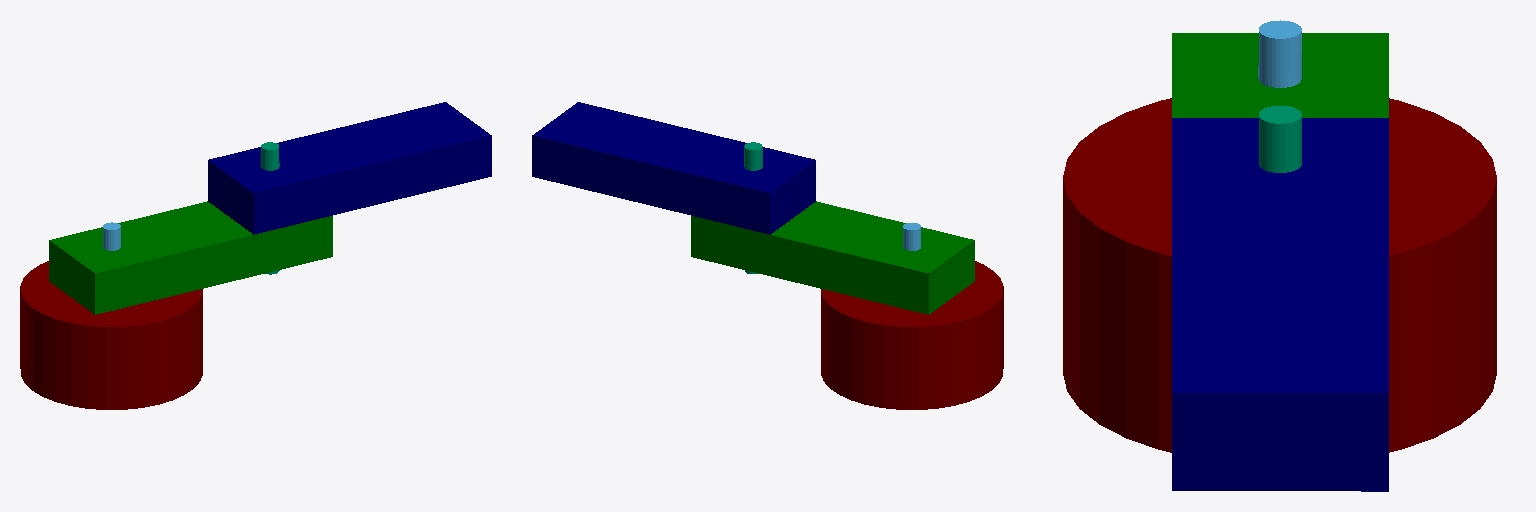
URDF robot description (Servos):
<robot name="Servos">
	<link name="base_link">
		<visual name="">
			<origin xyz="0 0 0.05" rpy="0 0 0"/>
			<geometry>
				<cylinder radius="0.1" length="0.1"/>
			</geometry>
			<material>
			<color rgba="0.5 0 0 1"/>
			</material>
		</visual>

		<collision name="">
			<origin xyz="0 0 0.05" rpy="0 0 0"/>
			<geometry>
				<cylinder radius="0.1" length="0.1"/>
			</geometry>
		</collision>

		<inertial>
			<mass value="5"/>
		</inertial>
	</link>
	
	<link name="arm_link">
	
		<visual name="arm">
			<origin xyz="0.1 0.025 0" rpy="0 0 0"/>
			<geometry>
				<box size="0.3 0.05 0.1"/>
			</geometry>
			<material>
			<color rgba="0 0.5 0 1"/>
			</material>
		</visual>
		
		<visual name="shaft">
			<origin xyz="0 0 0" rpy="1.57 0 0"/>
			<geometry>
			<cylinder radius="0.01" length="0.15"/>
			</geometry>
			<material name="">
			
			</material>
		</visual>


		<collision name="">
			<origin xyz="0.1 0.025 0" rpy="0 0 0"/>
			<geometry>
				<box size="0.3 0.05 0.1"/>
			</geometry>
		</collision>

		<inertial>
			<mass value="0.1"/>
		</inertial>
	</link>

	<joint name="arm servo" type="revolute" visible="true">
		<origin xyz="0 0 0.1" rpy="1.57 0 0"/>
		<parent link="base_link"/>
		<child link="arm_link"/>
		<axis xyz="0.0 1.0 0.0"/>
		<limit lower="-1.57" upper="1.57" effort="10.0" velocity="5.0"/>
	</joint>
	
	<link name="arm2_link">
	
		<visual name="arm">
			<origin xyz="0.1 0.025 0" rpy="0 0 0"/>
			<geometry>
				<box size="0.3 0.05 0.1"/>
			</geometry>
			<material>
			<color rgba="0 0 0.5 1"/>
			</material>
		</visual>
		
		<visual name="shaft">
			<origin xyz="0 0 0" rpy="1.57 0 0"/>
			<geometry>
			<cylinder radius="0.01" length="0.15"/>
			</geometry>
			<material name="">
			
			</material>
		</visual>


		<collision name="">
			<origin xyz="0.1 0.025 0" rpy="0 0 0"/>
			<geometry>
				<box size="0.3 0.05 0.1"/>
			</geometry>
		</collision>

		<inertial>
			<mass value="0.01"/>
		</inertial>

	</link>
	
	<joint name="arm2 servo" type="revolute" visible="true">
		<origin xyz="0.2 0.05 0" rpy="0 0 0"/>
		<parent link="arm_link"/>
		<child link="arm2_link"/>
		<axis xyz="0.0 1.0 0.0"/>
		<limit lower="-1.57" upper="1.57" effort="10.0" velocity="5.0"/>
	</joint>
</robot>

--- What the picture shows (computed from the rendered views, not written in the file) ---
Views: 3 orthographic renders of the robot side by side, from view 1: azimuth 30°, elevation 25°; view 2: azimuth 150°, elevation 25°; view 3: azimuth 270°, elevation 25°.
Model Servos with 3 links and 2 joints (2 revolute), rooted at base_link, posed every joint at zero.
Visible links, largest first — view 1: arm2_link, base_link, arm_link; view 2: arm2_link, base_link, arm_link; view 3: arm2_link, base_link, arm_link.
Link boxes in pixels (box(x1,y1,x2,y2)): arm2_link: box(208, 102, 491, 274); base_link: box(20, 261, 202, 409); arm_link: box(49, 201, 332, 314); arm2_link: box(532, 102, 815, 273); base_link: box(821, 261, 1003, 409); arm_link: box(691, 201, 974, 314); arm2_link: box(1172, 106, 1388, 491); base_link: box(1063, 98, 1496, 452); arm_link: box(1172, 20, 1388, 117).
Bounding box of the posed robot: 0.55 × 0.2 × 0.225 m (x, y, z).
Geometry: primitives only (box / cylinder / sphere), no mesh files.